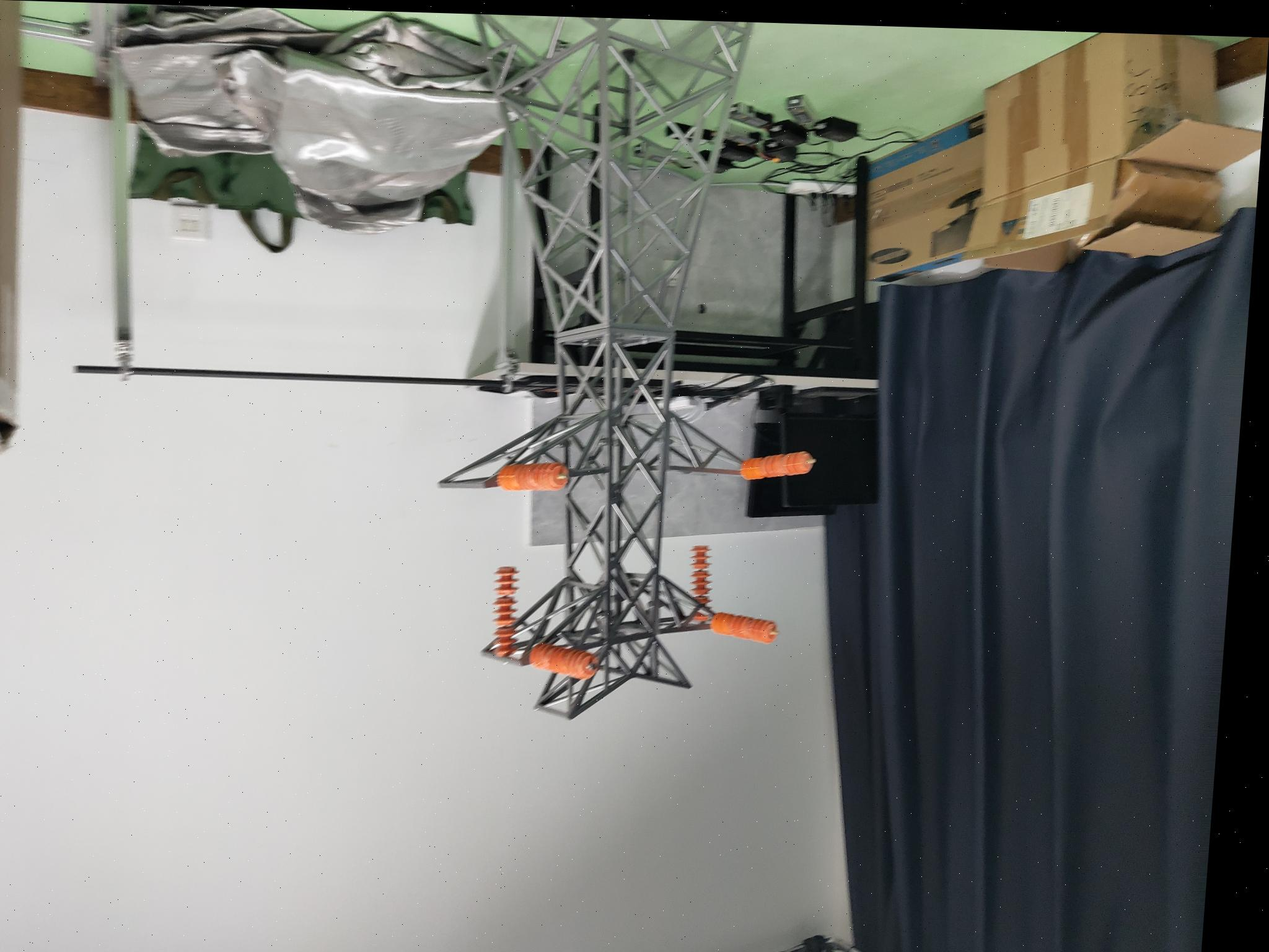tower: (433, 14, 766, 723)
